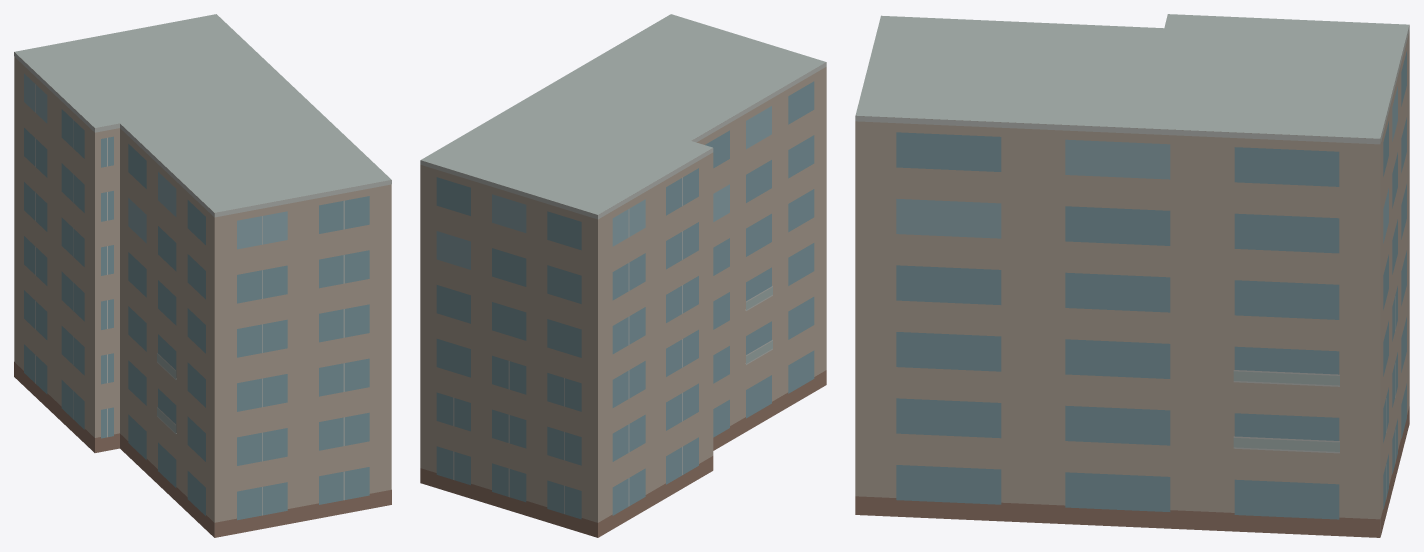
The model's file is survey-upis-32671862.glb.
3 views of the same model, side by side, from view 1: azimuth 30°, elevation 25°; view 2: azimuth 150°, elevation 25°; view 3: azimuth 270°, elevation 25° (orthographic). The views are drawn at different scales.
Parts seen in each view (by area): view 1: survey-upis-32671862.tmp; view 2: survey-upis-32671862.tmp; view 3: survey-upis-32671862.tmp.
Part boxes in pixels (<box>): survey-upis-32671862.tmp: <box>14,14,391,537</box>; survey-upis-32671862.tmp: <box>420,14,826,537</box>; survey-upis-32671862.tmp: <box>855,14,1409,537</box>.
Size of the model in its own units: 11.54 by 17.2 by 21.65.
